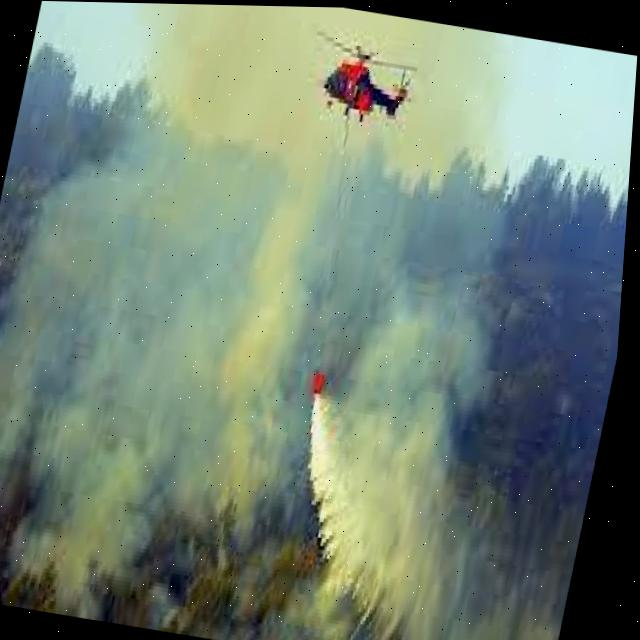smoke: (23, 149, 357, 561), (301, 251, 482, 619), (134, 3, 346, 182), (390, 20, 514, 249), (0, 214, 75, 555)
